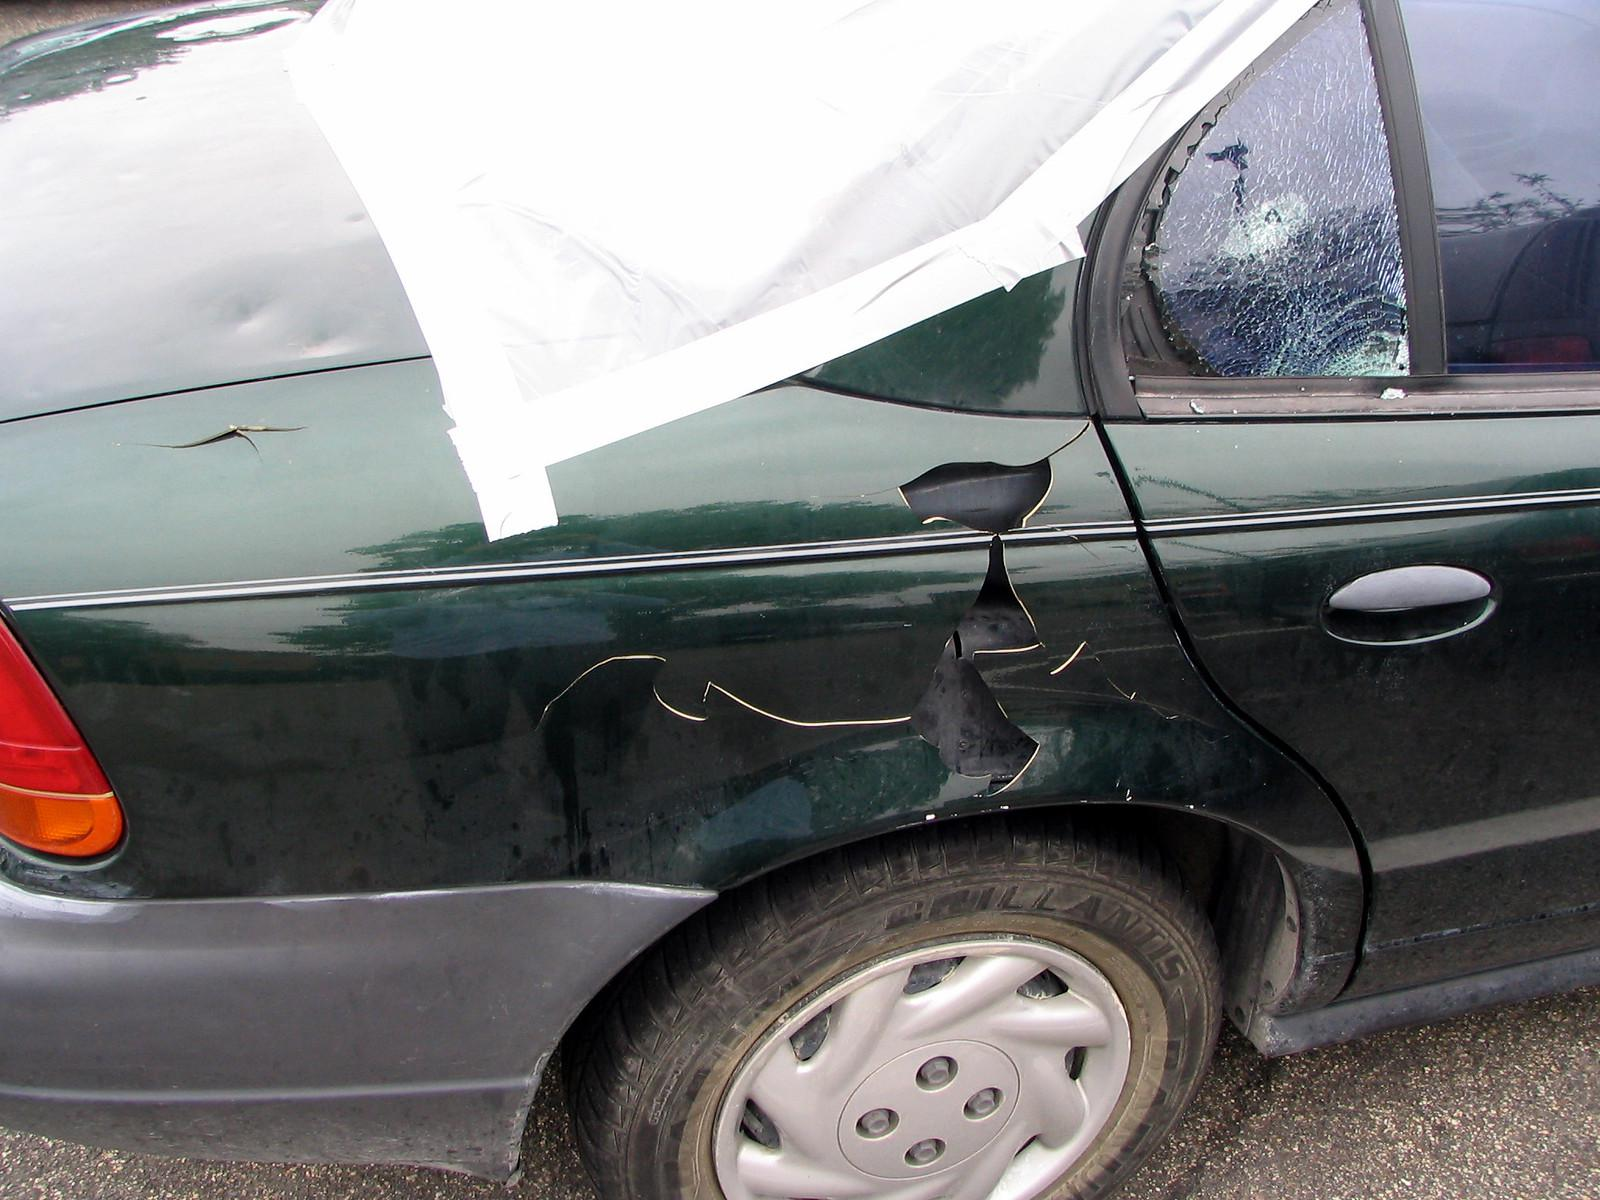quaterpanel-dent: (198, 440, 1183, 843)
